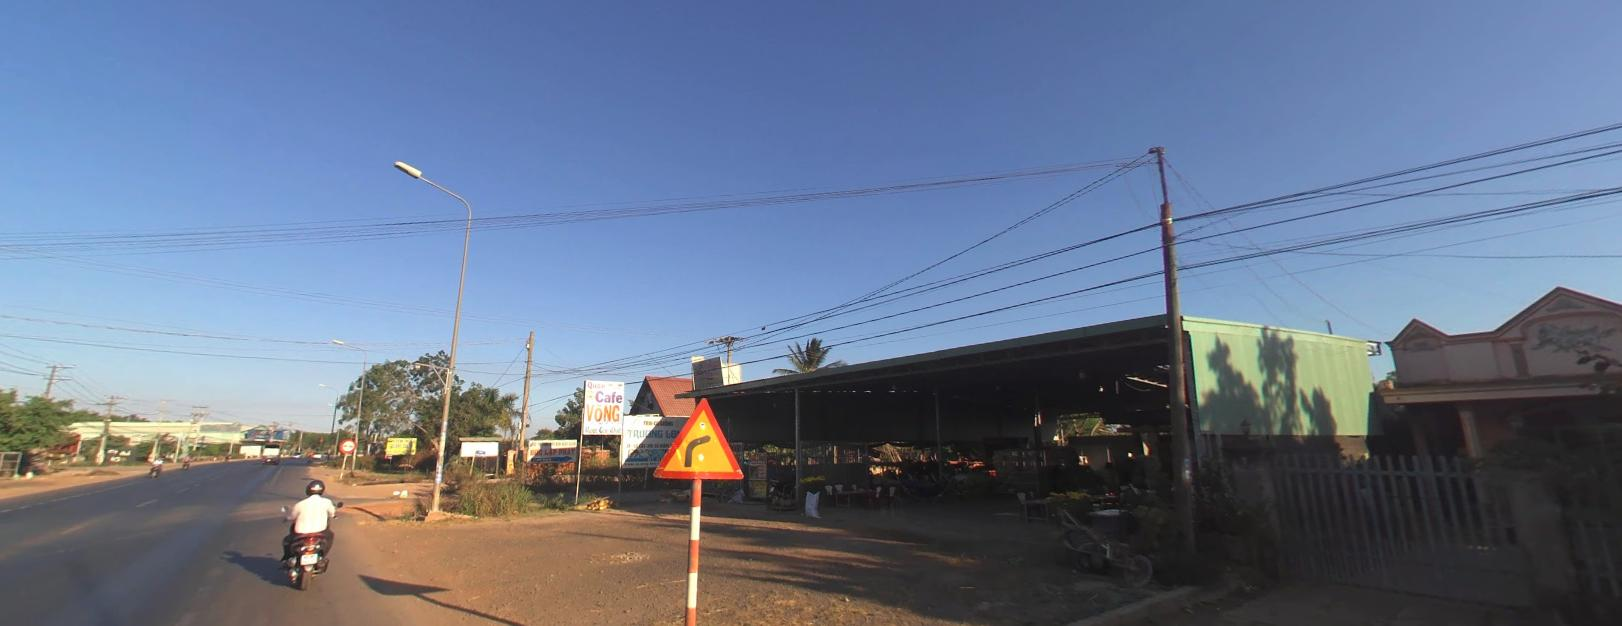Cam con lai: (338, 436, 356, 451), (339, 438, 356, 451)
Nguy hiem: (651, 394, 745, 478), (652, 397, 745, 480)
